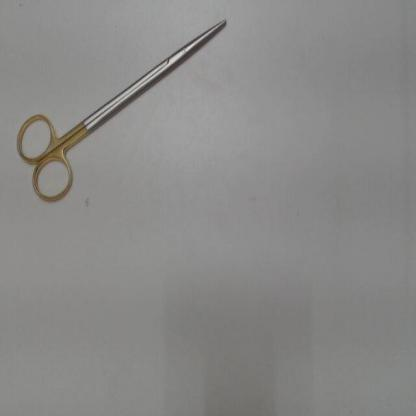7 Metzenbaum Scissors: (12, 16, 229, 208)
